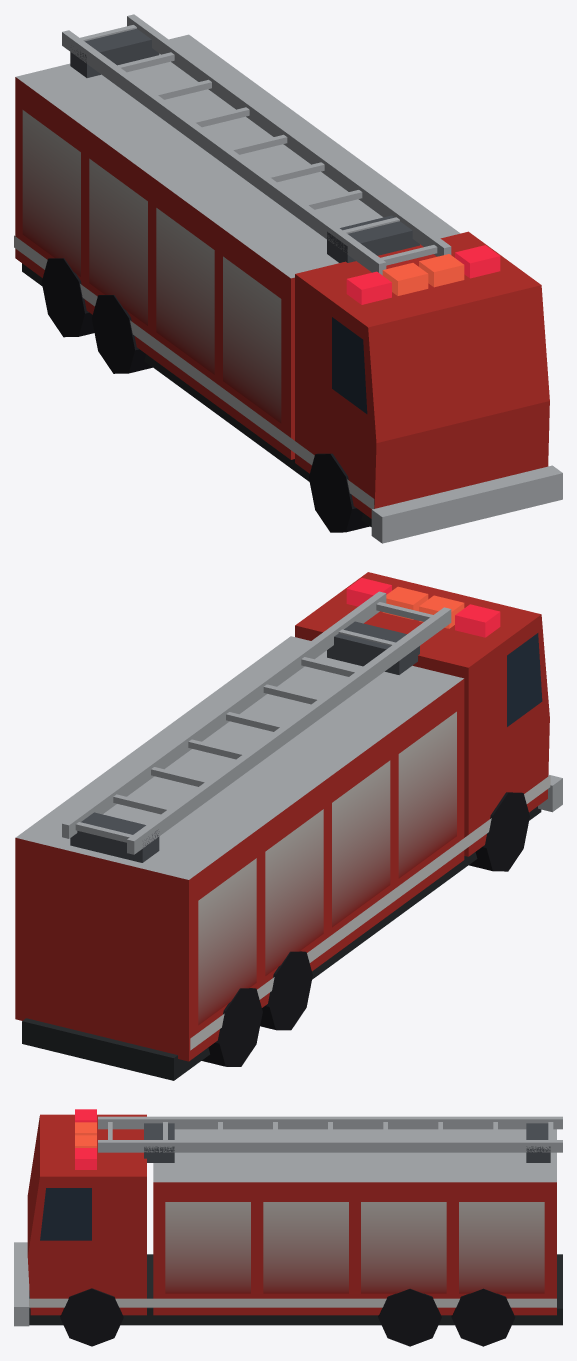
Rendered from prop_fire_truck.meshopt.glb.
3 renders of one model, top to bottom at view 1: azimuth 30°, elevation 25°; view 2: azimuth 150°, elevation 25°; view 3: azimuth 270°, elevation 25°, orthographic. The views are drawn at different scales.
Visible parts, largest first — view 1: fire_truck, beacon; view 2: fire_truck, beacon; view 3: fire_truck, beacon.
Part boxes in pixels (x1,y1,x2,y2): fire_truck: (14, 14, 562, 543); beacon: (346, 245, 500, 304); fire_truck: (15, 572, 562, 1080); beacon: (346, 578, 500, 637); fire_truck: (14, 1114, 562, 1346); beacon: (75, 1109, 96, 1169).
Size of the model in its own units: 2.5 by 3.34 by 8.97.
